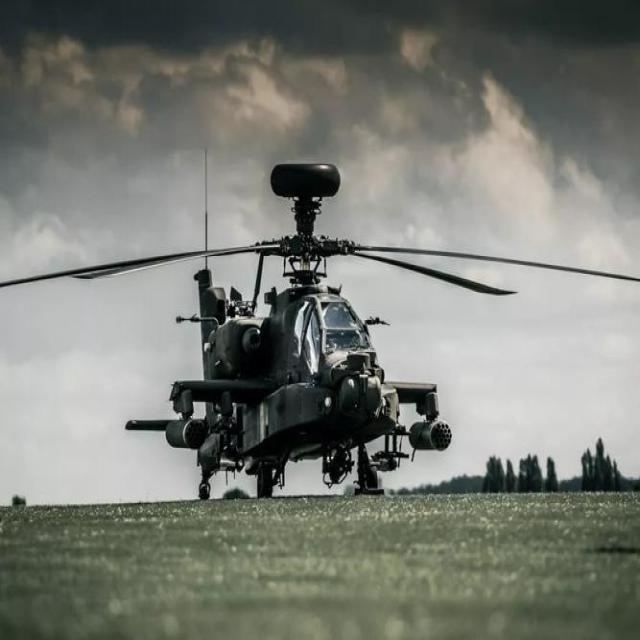MIL_HELO: (0, 152, 622, 498)
